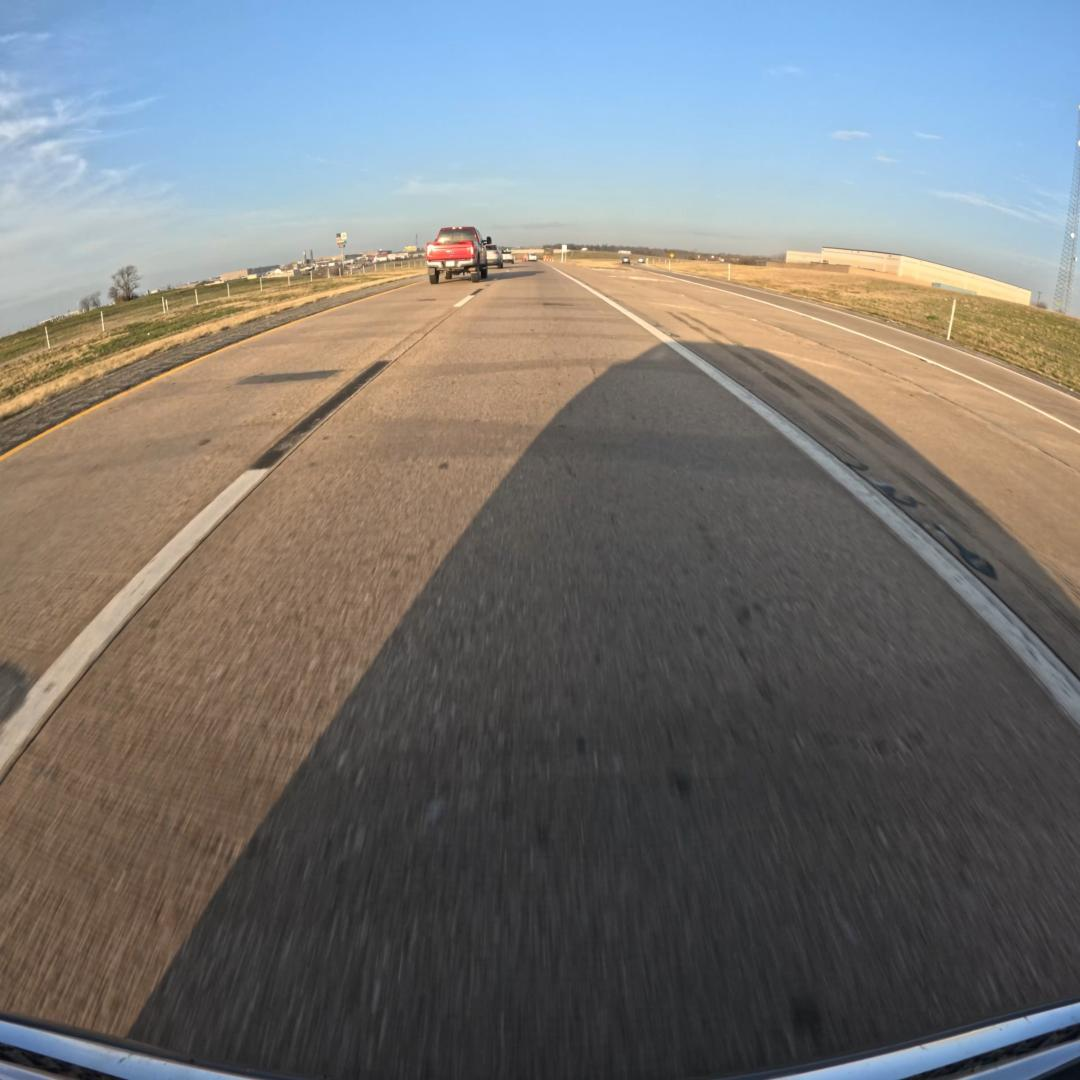lane0: (0, 264, 1080, 1080)
lane1: (0, 280, 493, 778)
